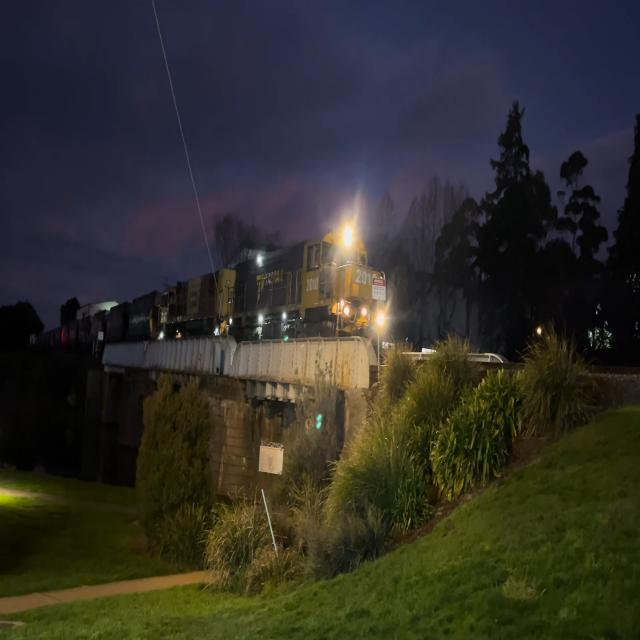locomotive: (229, 216, 387, 346), (156, 262, 234, 342)
